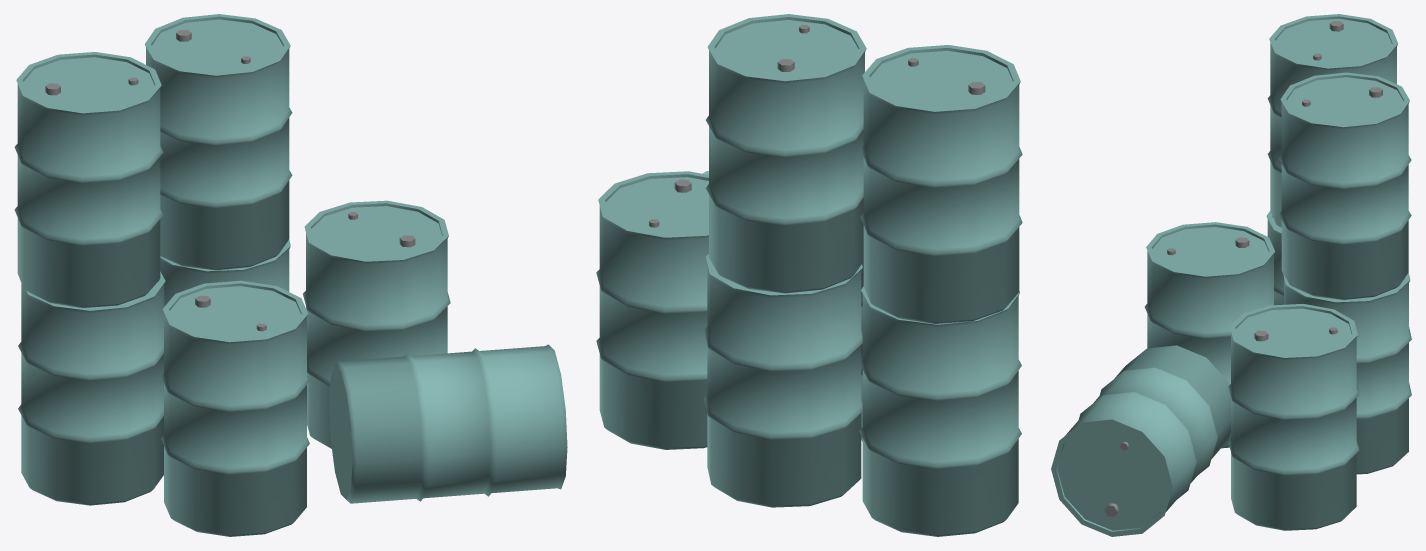
File: blue_barrel_group.glb
The picture shows the model from 3 angles, left to right: view 1: azimuth 30°, elevation 25°; view 2: azimuth 150°, elevation 25°; view 3: azimuth 270°, elevation 25°; orthographic projection. The views are drawn at different scales.
Parts seen in each view (by area): view 1: paint_teal__blue_barrel_group__solid, steel__blue_barrel_group__ns; view 2: paint_teal__blue_barrel_group__solid, steel__blue_barrel_group__ns; view 3: paint_teal__blue_barrel_group__solid, steel__blue_barrel_group__ns.
Part boxes in pixels (x1,y1,x2,y2): paint_teal__blue_barrel_group__solid: [14, 14, 567, 536]; steel__blue_barrel_group__ns: [45, 30, 415, 331]; paint_teal__blue_barrel_group__solid: [596, 14, 1022, 536]; steel__blue_barrel_group__ns: [649, 25, 985, 227]; paint_teal__blue_barrel_group__solid: [1051, 14, 1411, 536]; steel__blue_barrel_group__ns: [1104, 21, 1382, 517].
Size of the model in its own units: 2 by 1.77 by 1.65.
